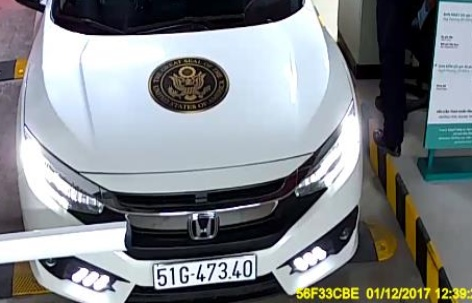plate: (146, 252, 260, 291)
